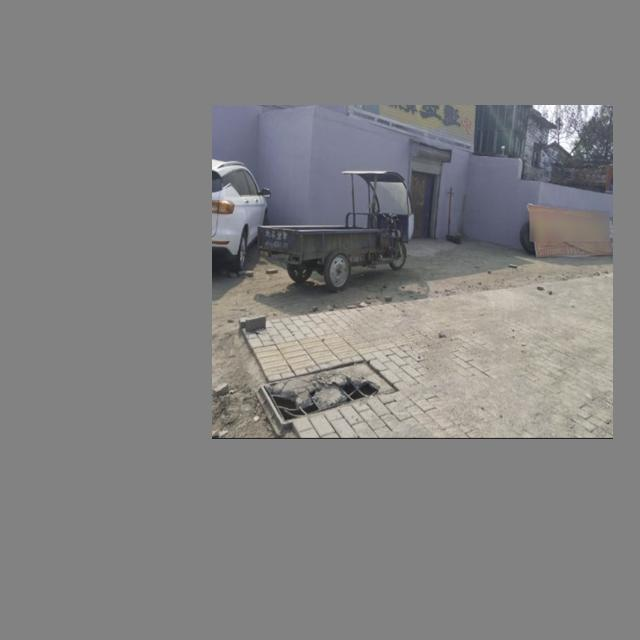broke: (258, 358, 400, 435)
